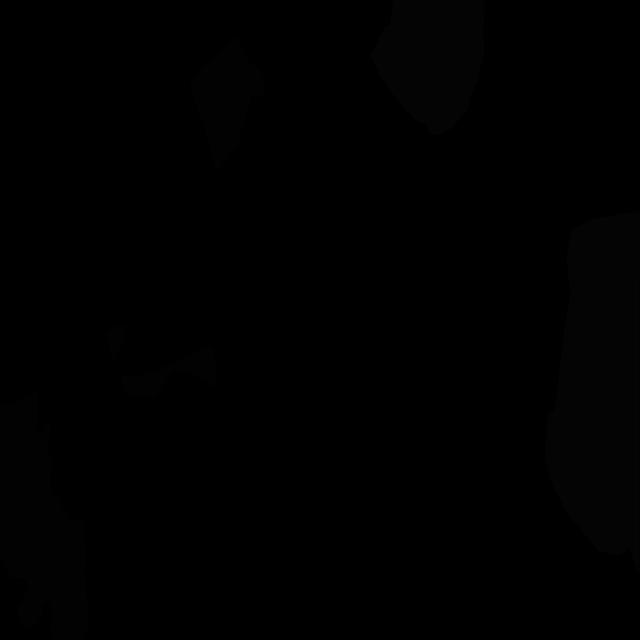cardboard: (0, 391, 89, 640), (190, 38, 265, 172), (120, 347, 217, 398), (106, 324, 125, 359)
soft_plastic: (544, 211, 640, 575), (371, 0, 485, 135)
